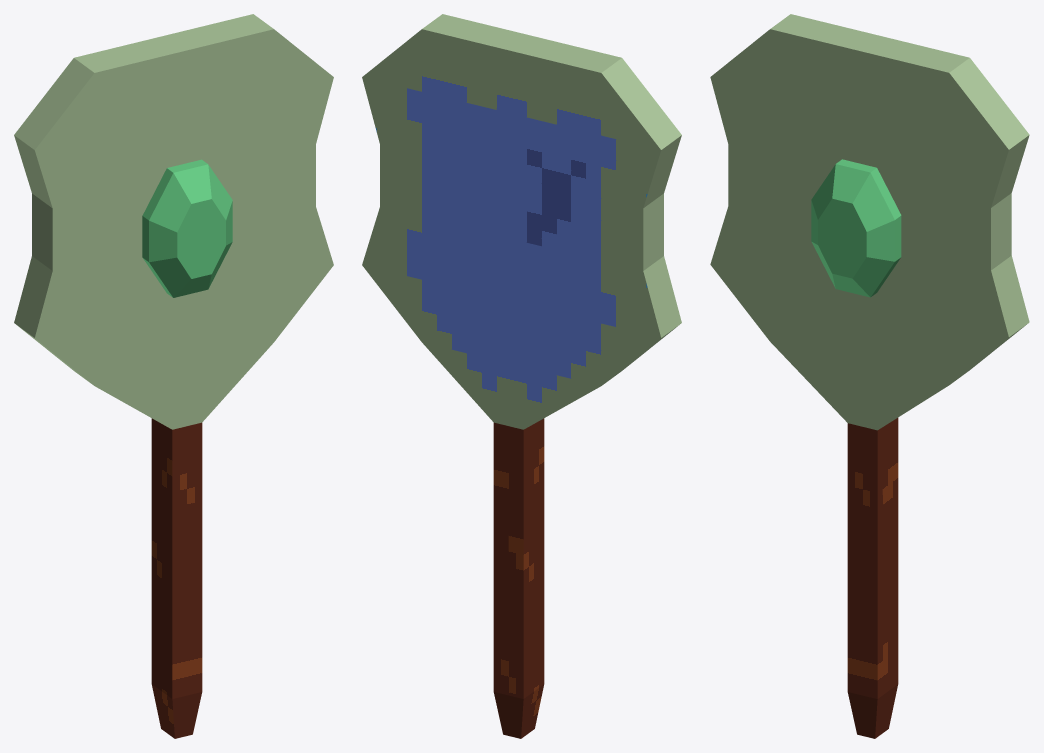
File: Ayna.obj
3 renders of one model, left to right at view 1: azimuth 30°, elevation 25°; view 2: azimuth 150°, elevation 25°; view 3: azimuth 330°, elevation 25°, orthographic.
Parts seen in each view (by area): view 1: cube; view 2: cube; view 3: cube.
Part boxes in pixels (x1=…): cube: x1=14, y1=14, x2=333, y2=738; cube: x1=362, y1=14, x2=681, y2=738; cube: x1=710, y1=14, x2=1029, y2=738.
Size of the model in its own units: 0.3125 by 0.6875 by 0.0688.
